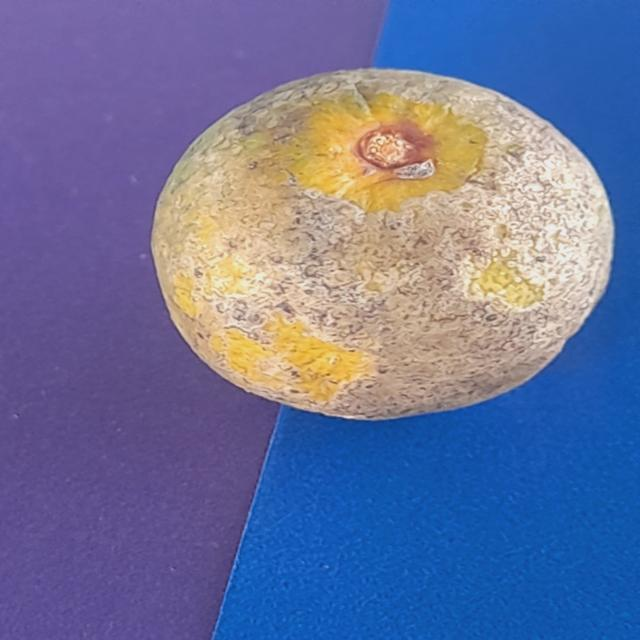thrips: (160, 68, 604, 422)
